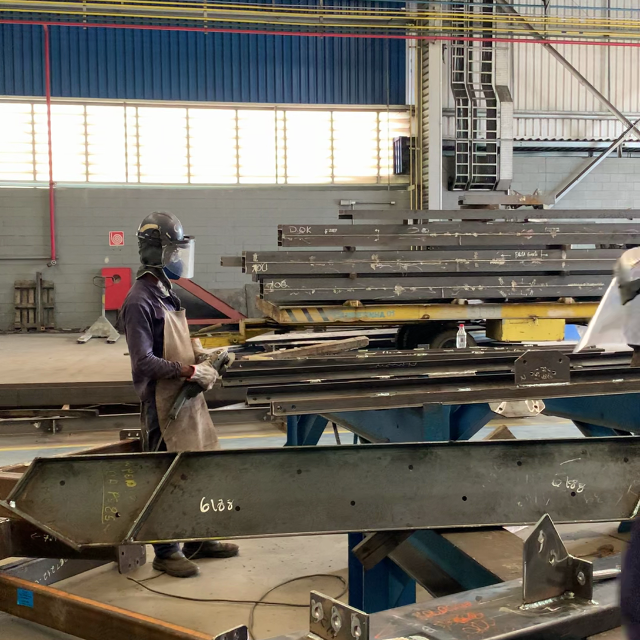face-shield: (158, 237, 200, 276)
glove: (187, 360, 216, 389)
helmet: (136, 212, 185, 238)
person: (120, 206, 224, 443)
safety-shoe: (152, 539, 198, 576), (185, 542, 238, 561)
